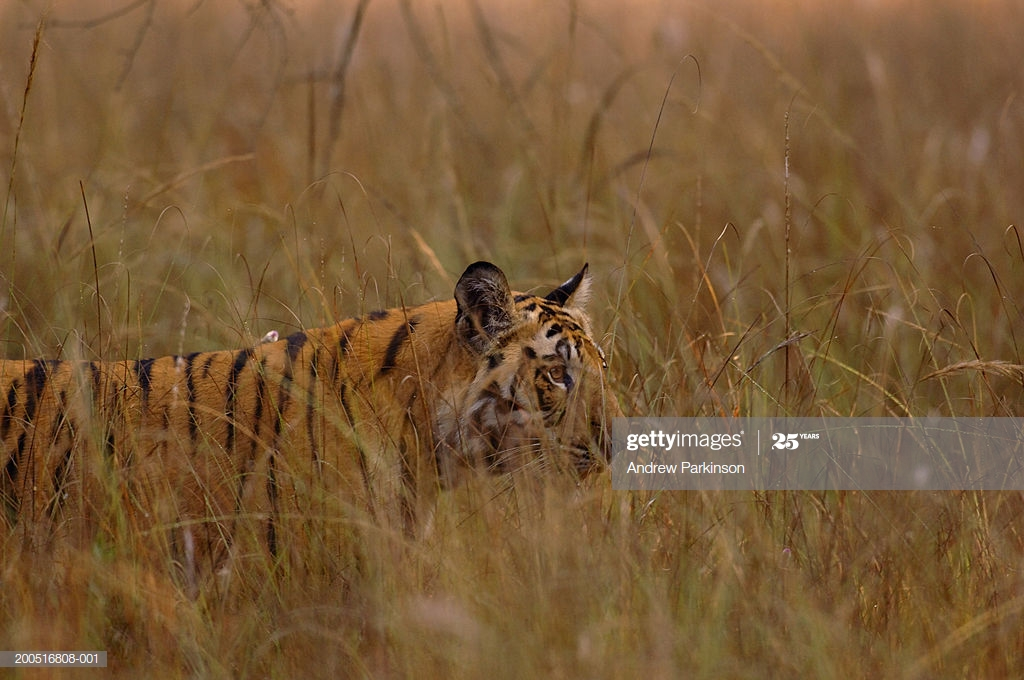Tiger: (2, 242, 640, 625)
